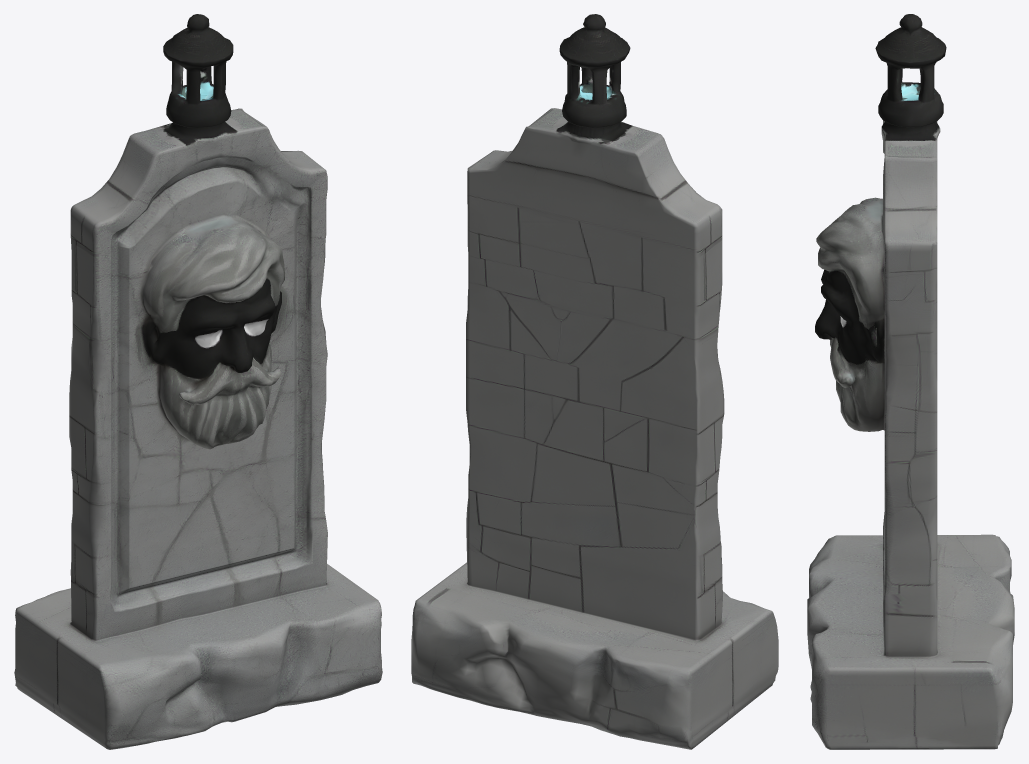
File: board_waypoint_lantern.glb
3 renders of one model, left to right at view 1: azimuth 30°, elevation 25°; view 2: azimuth 150°, elevation 25°; view 3: azimuth 270°, elevation 25°, orthographic.
Bounding box in the file's own units: 0.8337 × 1.91 × 0.5362.
Materials: 1 (1 with a texture image).
